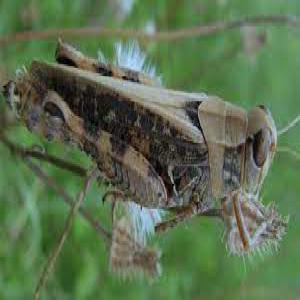locust: (16, 37, 290, 197)
